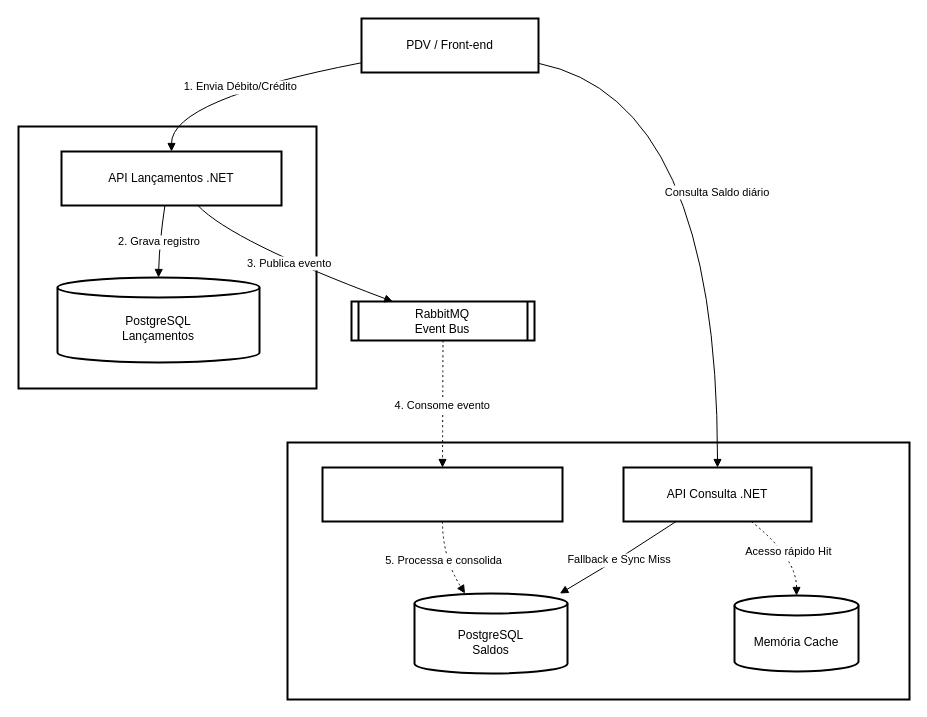
Some shapes in this 927 by 717 pixel diagram are drawn without their labels. The box of each missing label's shape, as (x1, y1, x2, y2) in pixels:
Consolidação e Consulta (Leitura / Performance): (286, 441, 910, 700)
Motor Transacional (Escrita / Alta Disponibilidade): (17, 125, 317, 389)
Worker Consolidado .NET: (321, 466, 563, 522)
